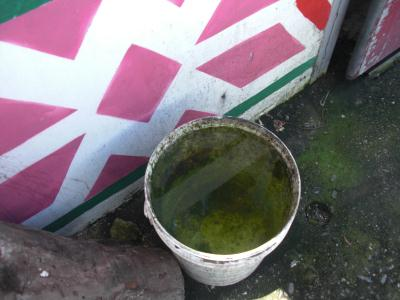bucket: (140, 113, 303, 289)
